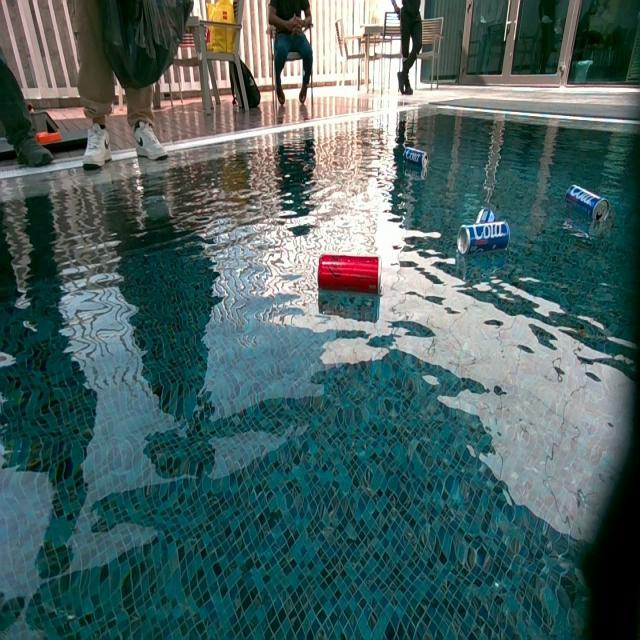Cans: (318, 256, 381, 298), (458, 222, 512, 255), (566, 185, 612, 222), (403, 147, 429, 170), (474, 208, 495, 224)
